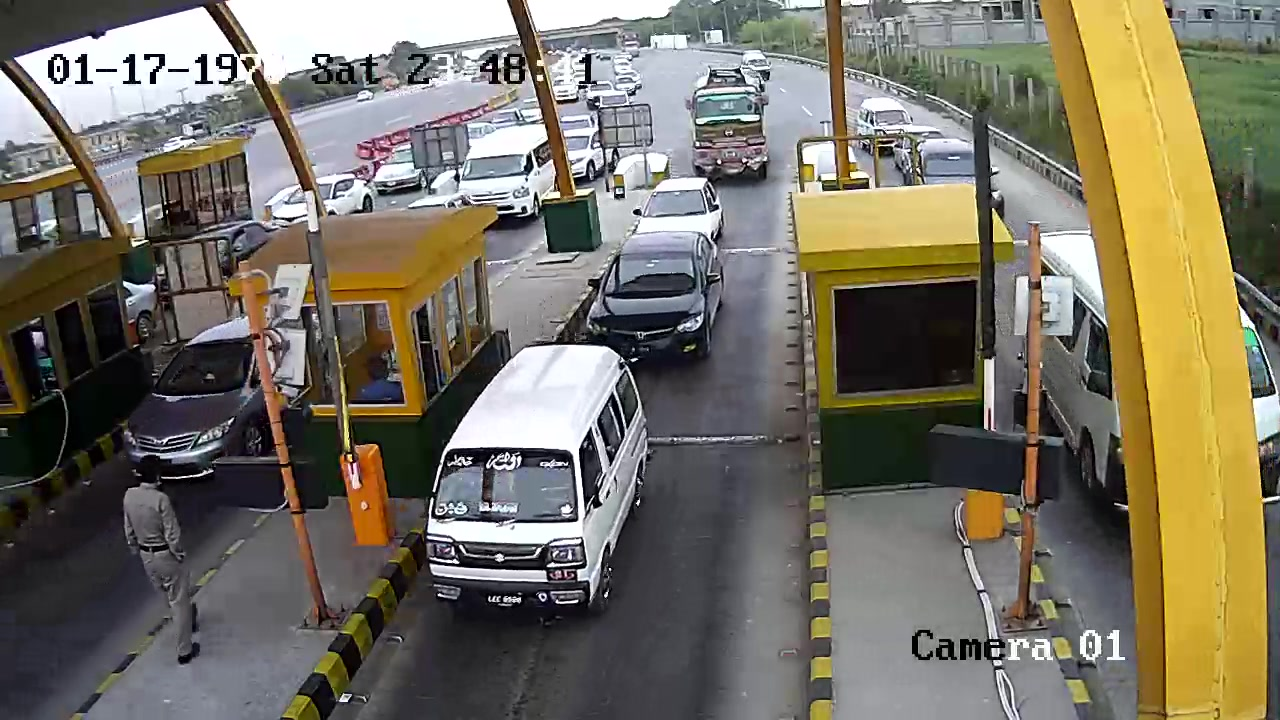F1: (425, 335, 655, 637)
